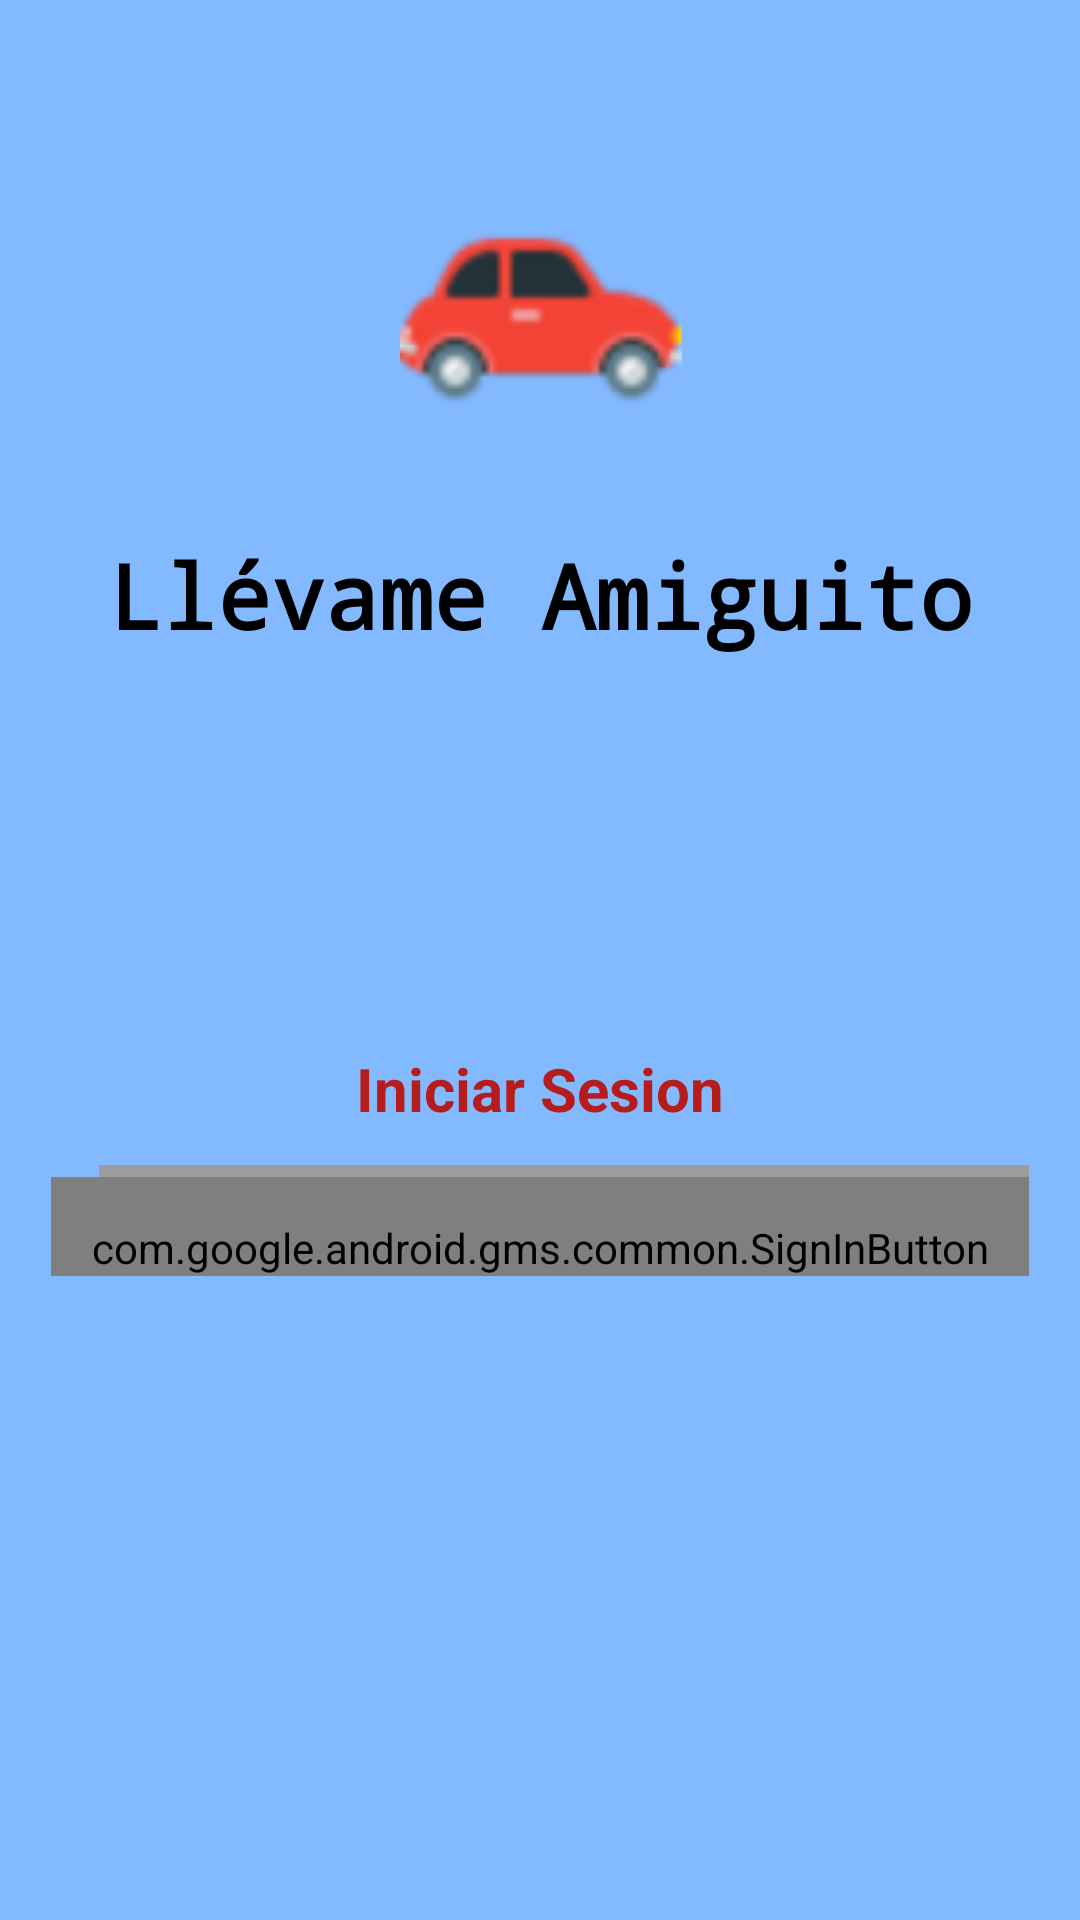

Point at icon controls on the screen. Image size 1080w x 1920h, points as [x,y].
car: [541,318]
